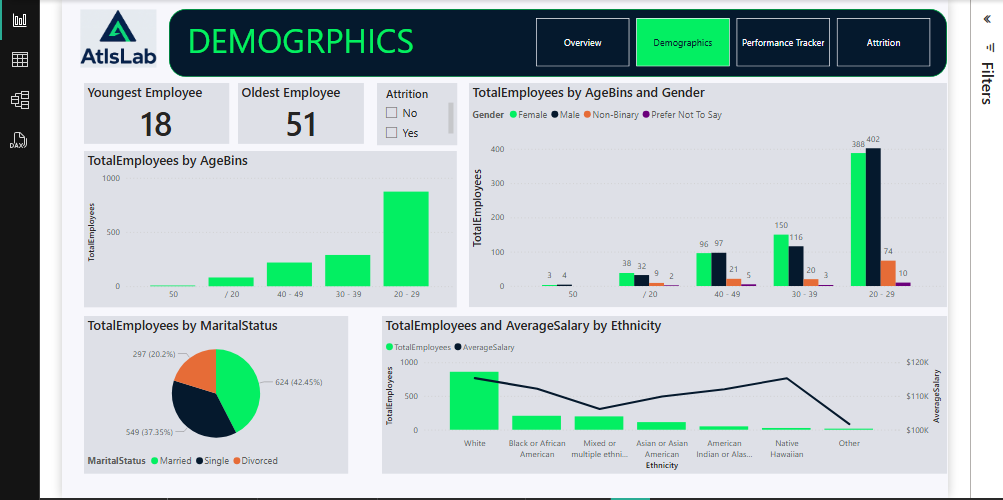

What the dashboard file says about the page in this screenshot:
{"tool":"powerbi","page":{"name":"Demographics","canvas":[1280,720],"ordinal":1},"visuals":[{"type":"shape","box":[154.7,13,1124.8,98.3],"z":0},{"type":"card","title":"Youngest Employee","fields":{"Values":["_measures.Youngest Employees"]},"box":[31.8,120,209.6,88.2],"z":1000},{"type":"card","title":"Oldest Employee","fields":{"Values":["_measures.Oldest Employees"]},"box":[254.5,120,182.2,88.2],"z":2000},{"type":"columnChart","fields":{"Category":["Employee.AgeBins"],"Y":["_measures.TotalEmployees"]},"box":[31.8,218.3,539.3,225.5],"z":3000},{"type":"clusteredColumnChart","fields":{"Category":["Employee.AgeBins"],"Y":["_measures.TotalEmployees"],"Series":["Employee.Gender"]},"box":[588.4,120,691.1,323.9],"z":4000},{"type":"slicer","fields":{"Values":["Employee.Attrition"]},"box":[455.4,120,115.7,89.6],"z":5000},{"type":"pieChart","fields":{"Y":["_measures.TotalEmployees"],"Category":["Employee.MaritalStatus"]},"box":[31.8,456.9,381.7,228.4],"z":6000},{"type":"lineStackedColumnComboChart","fields":{"Category":["Employee.Ethnicity"],"Y":["_measures.TotalEmployees"],"Y2":["_measures.AverageSalary"]},"box":[462.7,456.9,816.9,228.4],"z":7000},{"type":"image","box":[11.6,8.7,140.2,94],"z":8000},{"type":"textbox","box":[176.4,20.2,412,73.7],"z":9000},{"type":"pageNavigator","box":[685.3,26,574,70.8],"z":10000}]}

Visuals, with their boxes on the page's 1280x720 design canvas (x1, y1, x2, y2). These are canvas units, not pixel positions in the 1003x500 screenshot, which may show the page scaled, cropped or inside an application window:
shape: box(155, 13, 1280, 111)
"Youngest Employee" card: box(32, 120, 241, 208)
"Oldest Employee" card: box(254, 120, 437, 208)
columnChart - Employee.AgeBins x _measures.TotalEmployees: box(32, 218, 571, 444)
clusteredColumnChart - Employee.AgeBins x _measures.TotalEmployees: box(588, 120, 1280, 444)
slicer - Employee.Attrition: box(455, 120, 571, 210)
pieChart - _measures.TotalEmployees x Employee.MaritalStatus: box(32, 457, 414, 685)
lineStackedColumnComboChart - Employee.Ethnicity x _measures.TotalEmployees: box(463, 457, 1280, 685)
image: box(12, 9, 152, 103)
textbox: box(176, 20, 588, 94)
pageNavigator: box(685, 26, 1259, 97)
